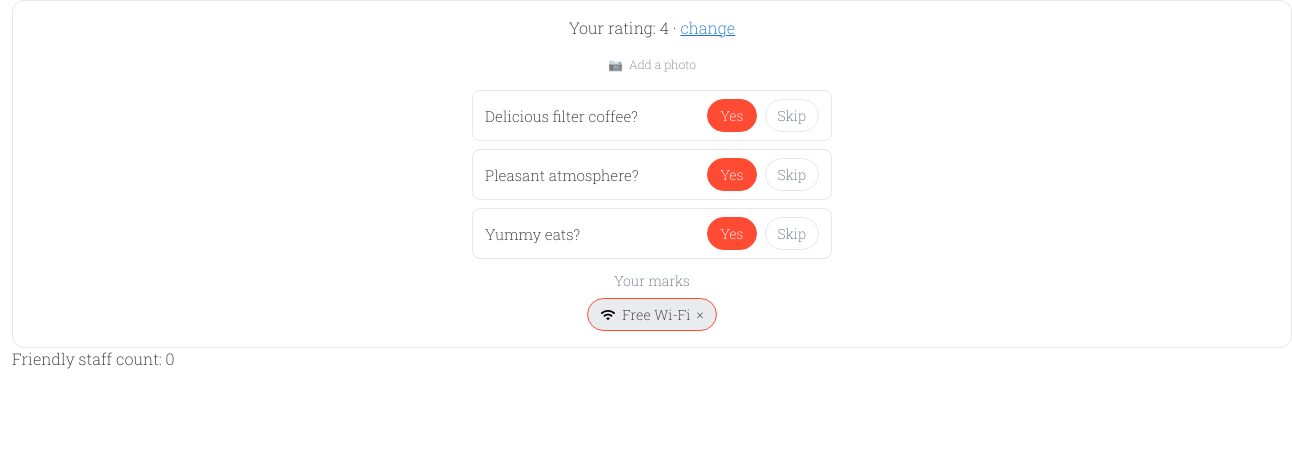
Scenario: RateBlock › restores the chip and explains a failed removal
Click the button with aria-label "Remove Free Wi-Fi" at (652, 315), box [587,298,717,331]
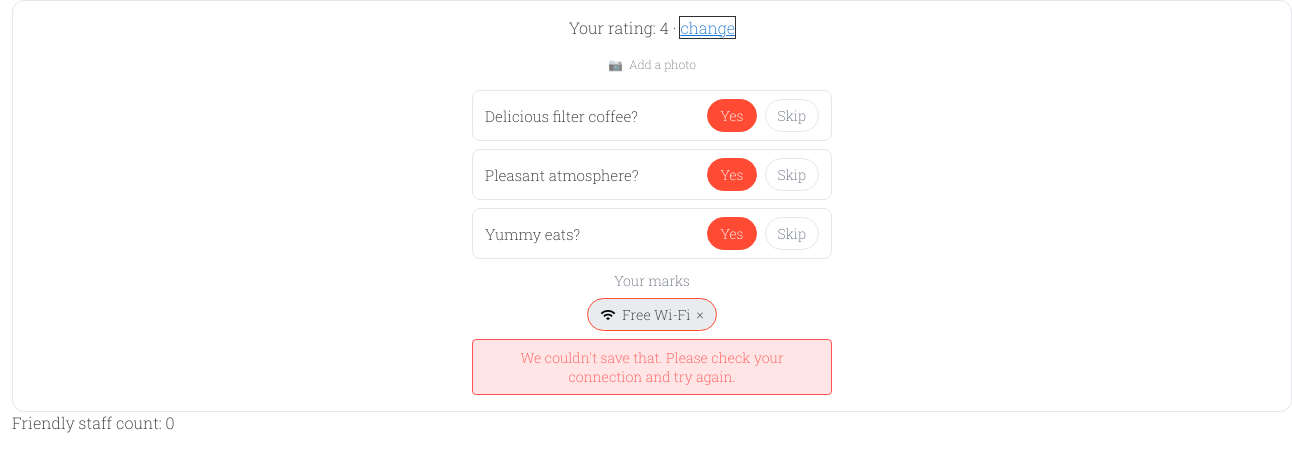
Result: the message "We couldn't save that. Please check your connection and try again." is shown at [472,339,832,395]
